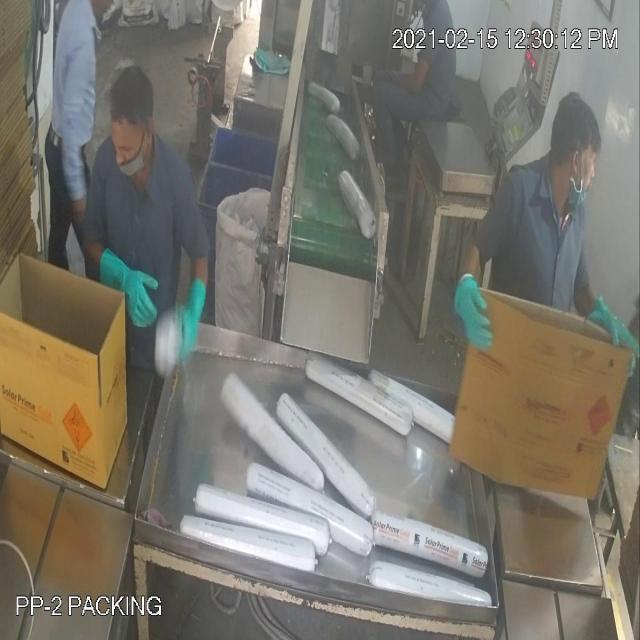Gloves: (38, 62, 600, 322)
